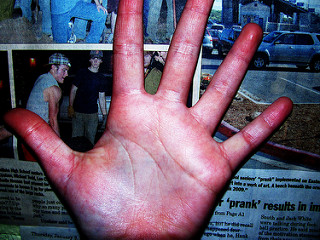palm: (67, 109, 229, 226)
